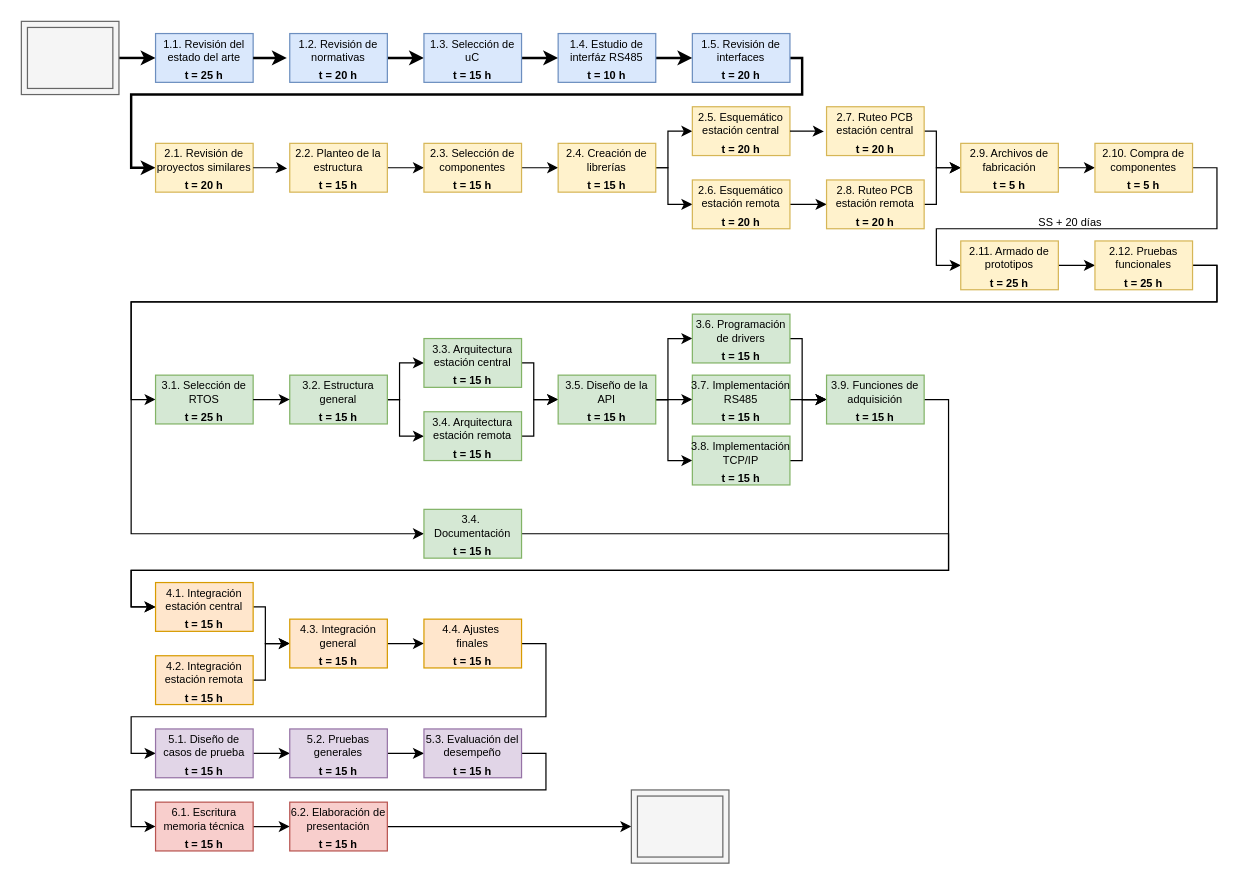
Some shapes in this 1248 by 885 pixel diagram are drawn without their labels. The centre of each missing label's shape, as x and y in pixels:
"FIN 15/12/2025" belongs at point 679,826.
"INICIO 29/04/2025" belongs at point 69,57.
